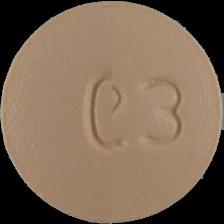63187-758: (0, 0, 224, 224)
